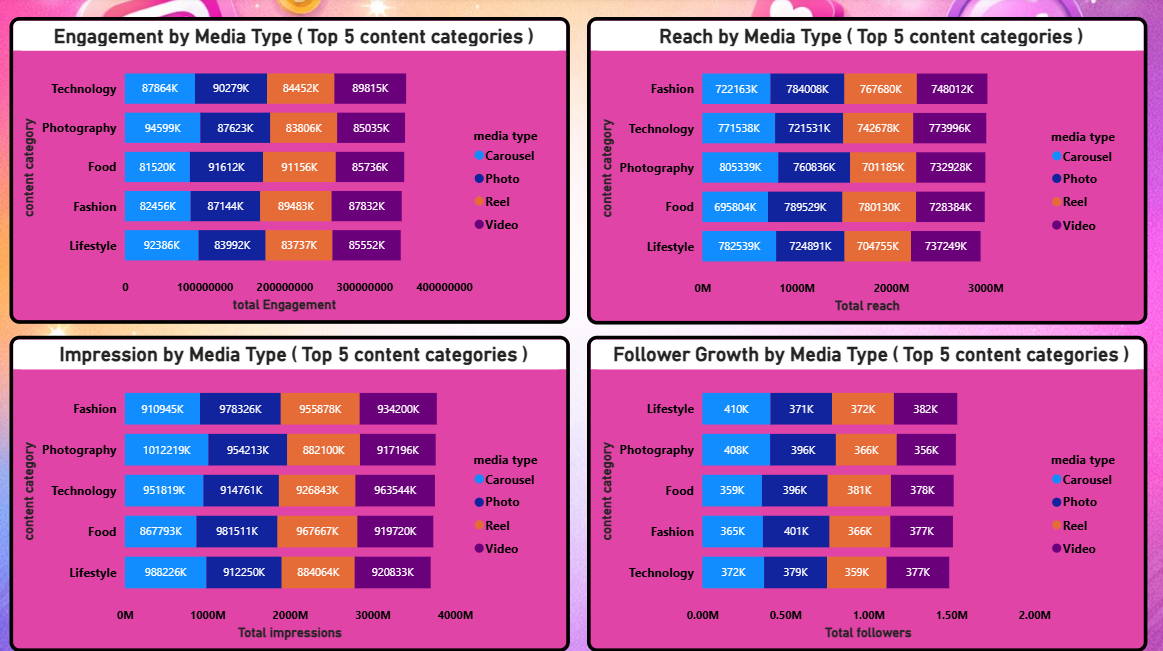

This screenshot's page, from the dashboard's own definition file:
{"tool":"powerbi","page":{"name":"Page 4","canvas":[1280,720],"ordinal":3},"visuals":[{"type":"barChart","title":"Engagement   by Media Type  ( Top 5 content categories )","fields":{"Y":["DAX.Engagement Rate"],"Category":["Top 5 Content Categories.content category"],"Series":["Instagram_Analytics.media type"]},"box":[13.3,21.7,615.3,336.6],"z":0},{"type":"barChart","title":"Reach   by Media Type  ( Top 5 content categories )","fields":{"Category":["Top 5 Content Categories.content category"],"Series":["Instagram_Analytics.media type"],"Y":["DAX.Total reach(m)"]},"box":[647.9,21.7,615.3,337.8],"z":1000},{"type":"barChart","title":"Impression by Media Type   ( Top 5 content categories )","fields":{"Category":["Top 5 Content Categories.content category"],"Series":["Instagram_Analytics.media type"],"Y":["DAX.Total impressions (m)"]},"box":[13.3,372.5,615.3,347.5],"z":2000},{"type":"barChart","title":"Follower Growth by Media Type  ( Top 5 content categories )","fields":{"Category":["Top 5 Content Categories.content category"],"Series":["Instagram_Analytics.media type"],"Y":["DAX.Total followers(m)"]},"box":[647.9,372.5,615.3,347.5],"z":3000}]}

Visuals, with their boxes in screenshot pixels (x1, y1, x2, y2), scaled from the page's 1280x720 canvas onto the 1163x651 screenshot:
"Engagement   by Media Type  ( Top 5 content categories )" barChart: [x1=12, y1=20, x2=571, y2=324]
"Reach   by Media Type  ( Top 5 content categories )" barChart: [x1=589, y1=20, x2=1148, y2=325]
"Impression by Media Type   ( Top 5 content categories )" barChart: [x1=12, y1=337, x2=571, y2=650]
"Follower Growth by Media Type  ( Top 5 content categories )" barChart: [x1=589, y1=337, x2=1148, y2=650]
